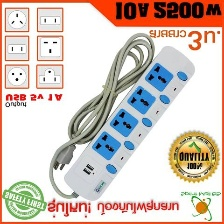three_eye_plug: (62, 44, 197, 204)
